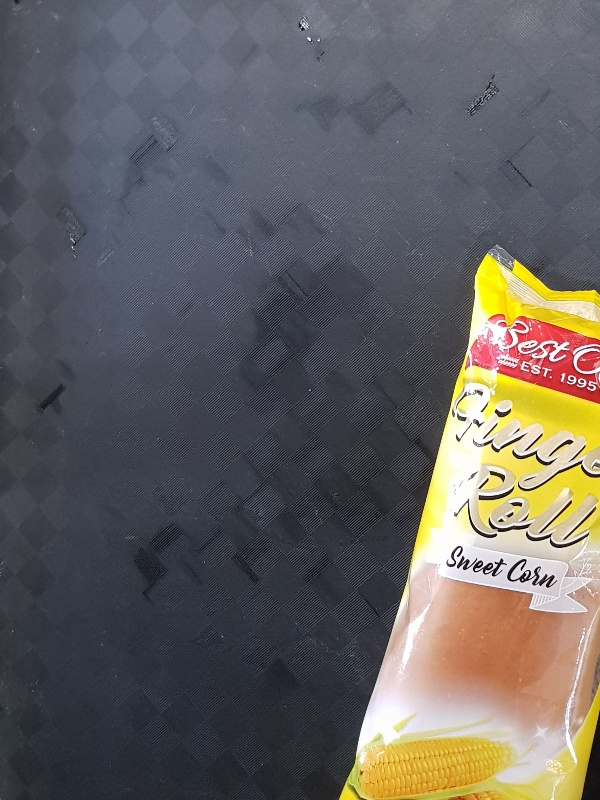Tinges Roll Sweet Corn: (336, 241, 599, 800)
